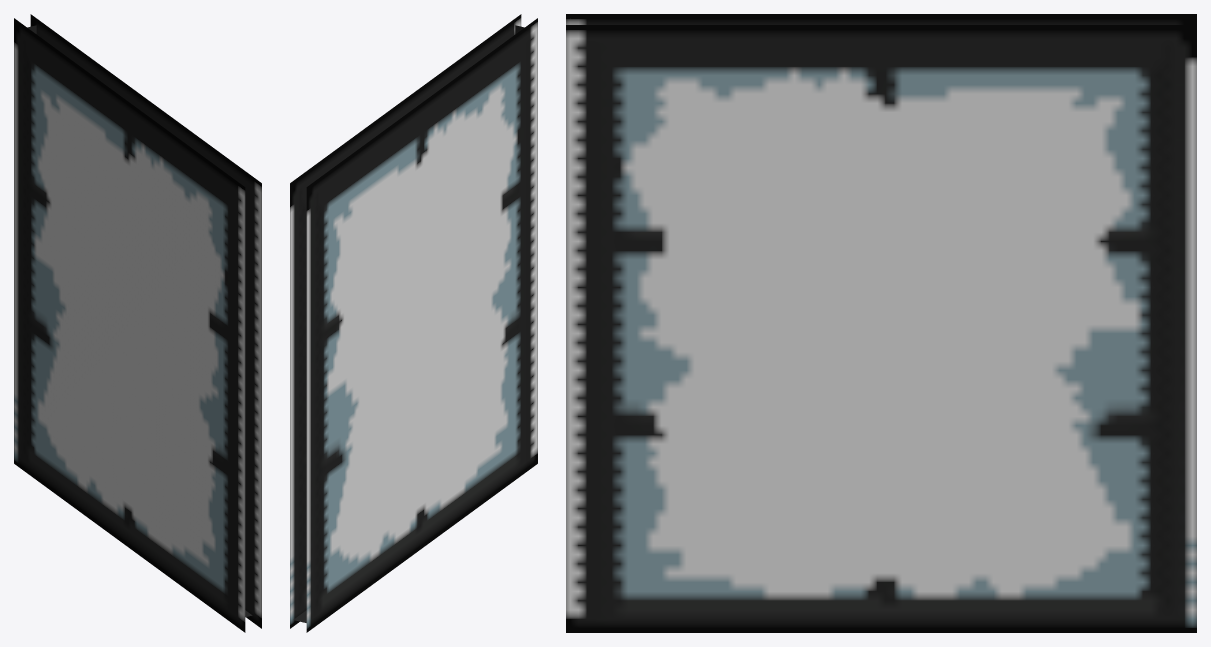
Rendered from pz_native_fixtures_windows_metal_82_frame.obj.
3 renders of one model, left to right at view 1: azimuth 30°, elevation 25°; view 2: azimuth 150°, elevation 25°; view 3: azimuth 270°, elevation 25°, orthographic. The views are drawn at different scales.
Parts seen in each view (by area): view 1: pz_native_fixtures_windows_metal_82_frame; view 2: pz_native_fixtures_windows_metal_82_frame; view 3: pz_native_fixtures_windows_metal_82_frame.
Part boxes in pixels (x1,y1,x2,y2): pz_native_fixtures_windows_metal_82_frame: (14,14,261,632); pz_native_fixtures_windows_metal_82_frame: (290,14,537,632); pz_native_fixtures_windows_metal_82_frame: (566,14,1196,632).
Size of the model in its own units: 0.04 by 1.03 by 0.9696.
1 material, 1 textured.
